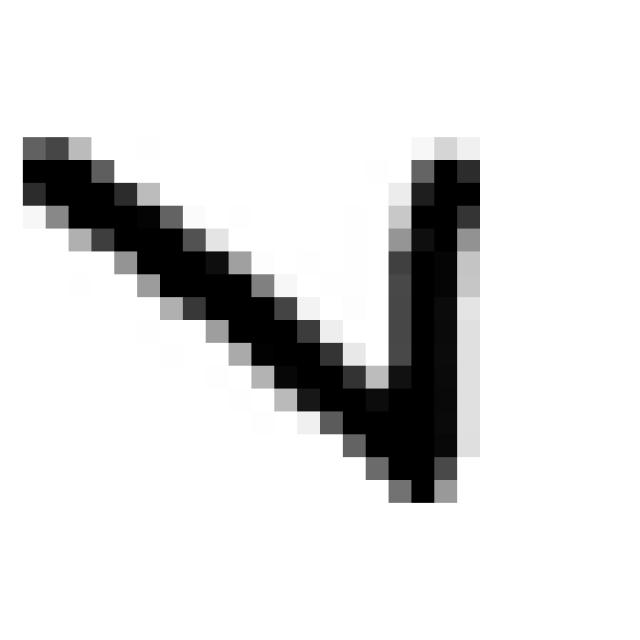7 -seven-: (0, 114, 480, 526)
